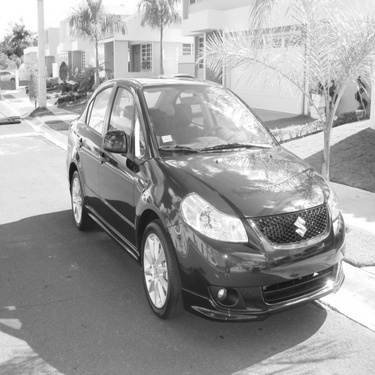car: (58, 71, 350, 327), (1, 67, 18, 85)
